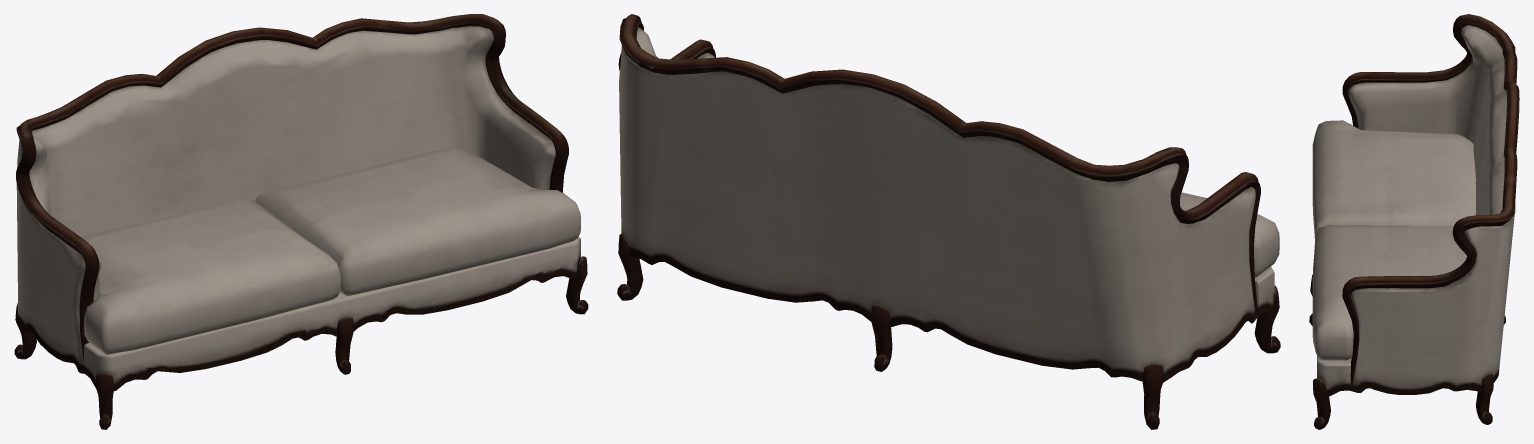
File: sofa.glb
3 views of the same model, side by side, from view 1: azimuth 30°, elevation 25°; view 2: azimuth 150°, elevation 25°; view 3: azimuth 270°, elevation 25° (orthographic). The views are drawn at different scales.
Parts seen in each view (by area): view 1: sofa_3_sofa_3_0; view 2: sofa_3_sofa_3_0; view 3: sofa_3_sofa_3_0.
Boxes of the visible parts, x1,y1,x2,y2 form: sofa_3_sofa_3_0: (14, 14, 588, 429); sofa_3_sofa_3_0: (617, 14, 1280, 429); sofa_3_sofa_3_0: (1309, 14, 1519, 429).
Size of the model in its own units: 1.57 by 0.7965 by 0.658.
1 material, 1 textured.
